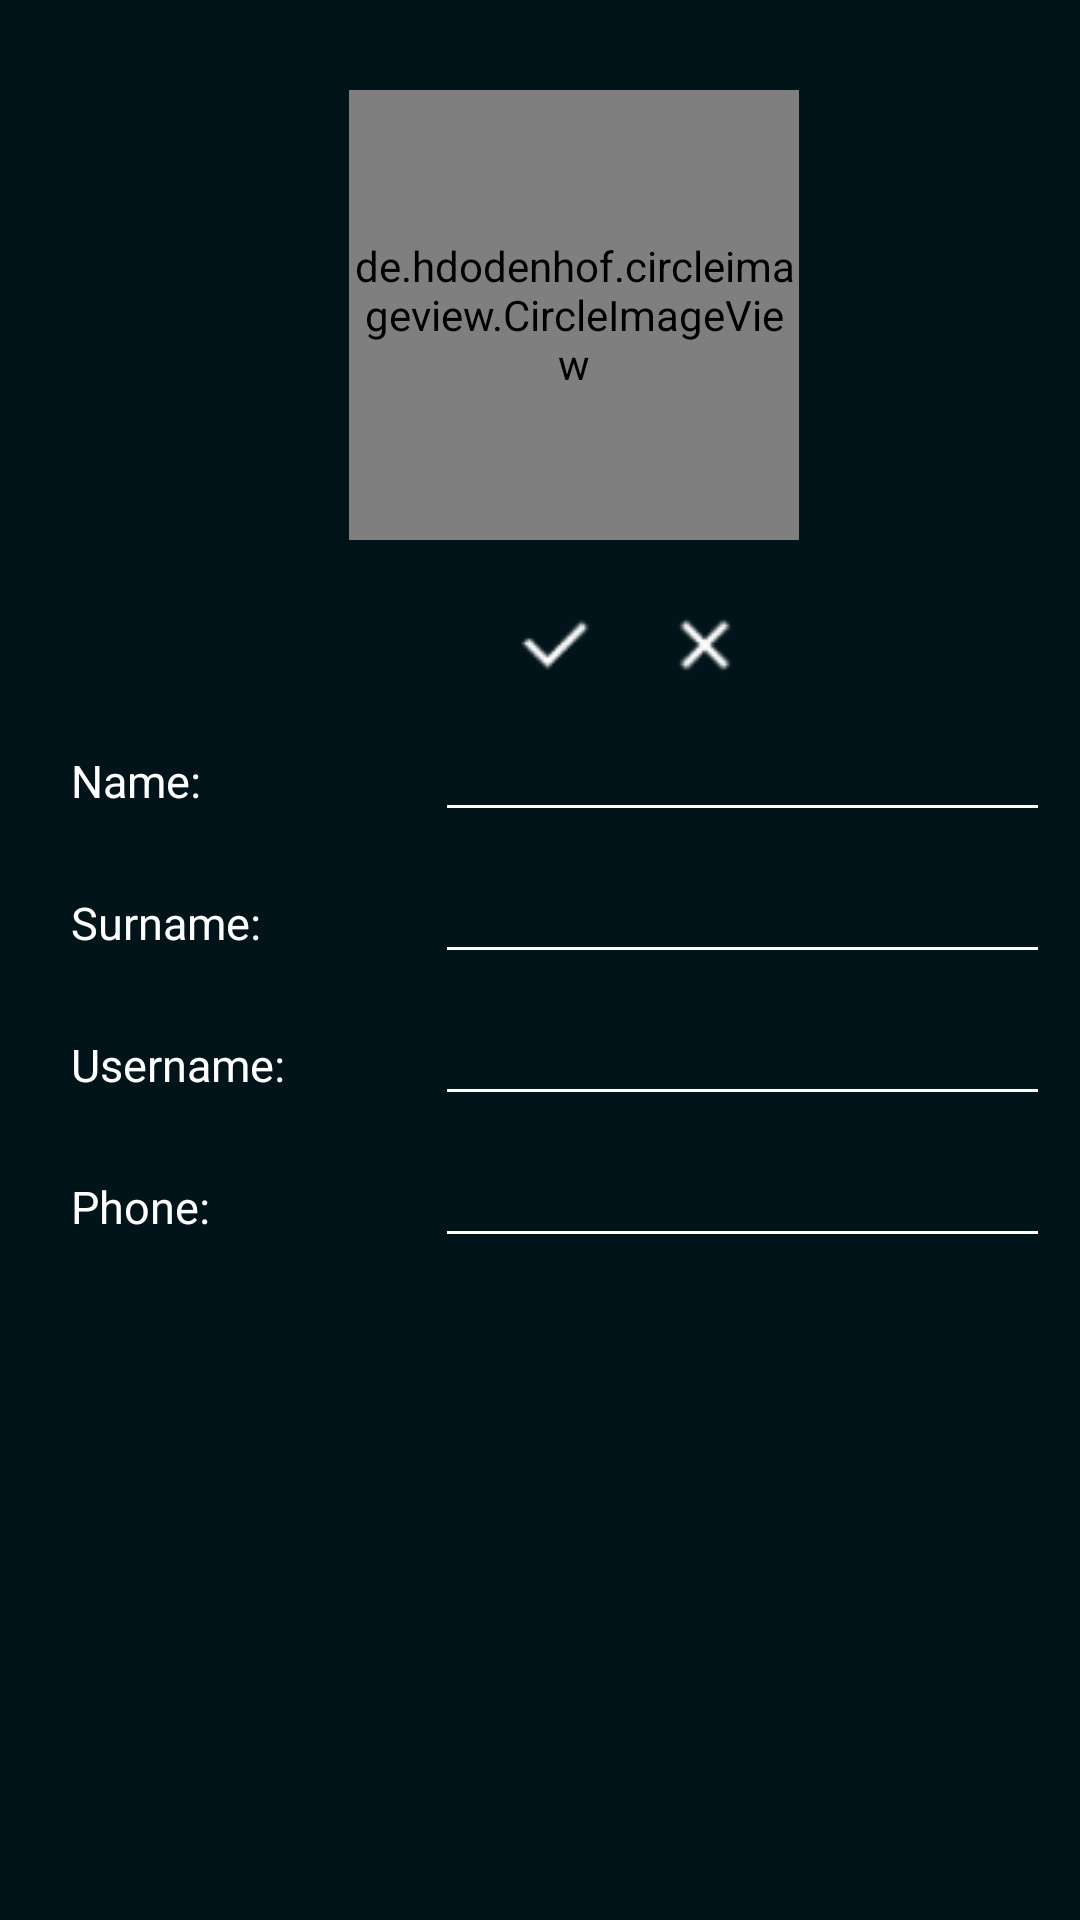

Icon bounding boxes for this 1080 x 1920 phone screenshot, format BBox(x1, y1, x2, y2):
cancel changes: BBox(680, 620, 730, 670)
save changes: BBox(521, 621, 589, 670)
